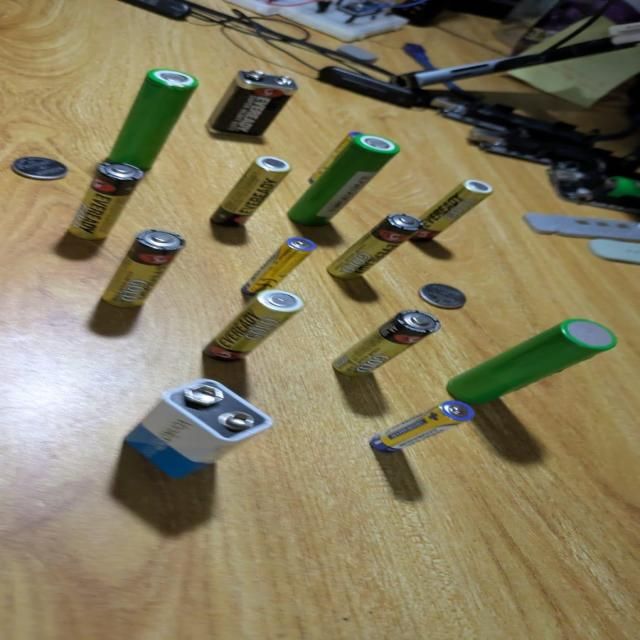9V: (121, 375, 279, 481), (211, 68, 294, 146)
AA: (95, 228, 196, 320), (328, 303, 448, 380), (54, 159, 148, 257), (202, 284, 306, 368), (406, 172, 496, 255), (325, 214, 422, 291), (206, 152, 292, 236)
AAA: (368, 399, 478, 456), (230, 234, 322, 299)
COIN: (417, 278, 475, 312), (7, 152, 76, 180)
